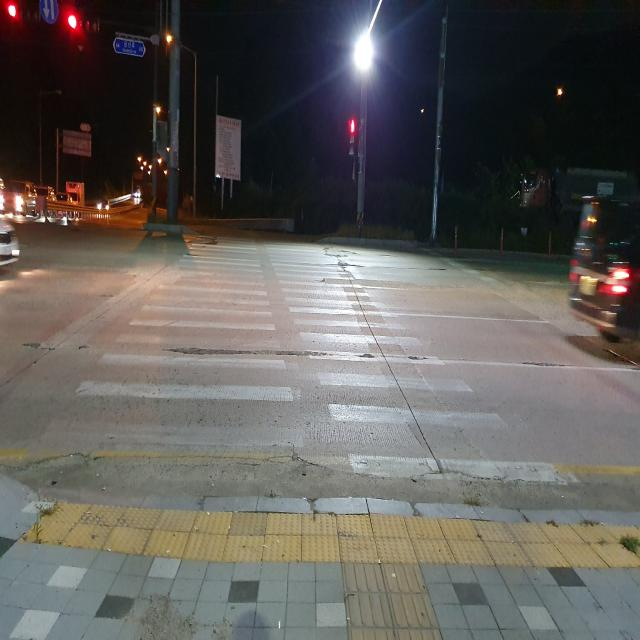빨간불: (347, 114, 358, 161)
횡단보도: (75, 234, 585, 489)
